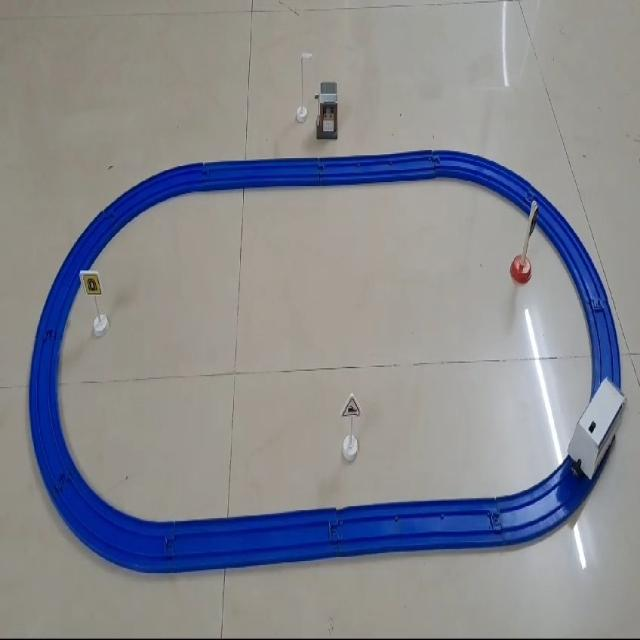bus: (562, 381, 629, 488)
